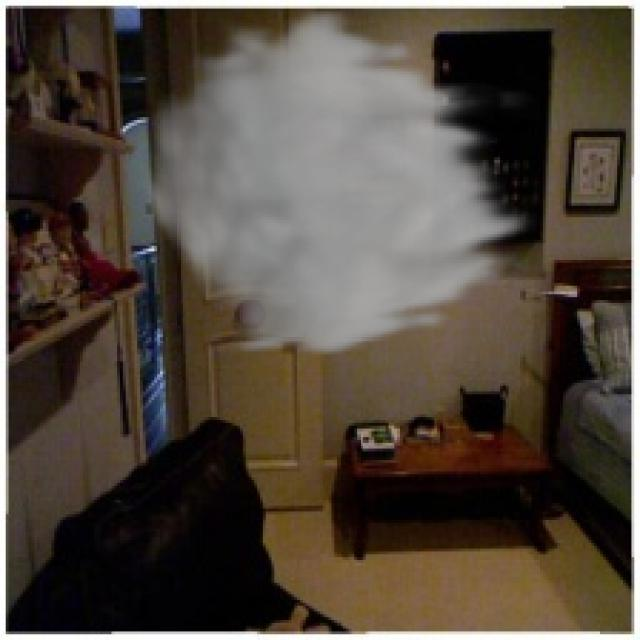smoke: (137, 3, 546, 360)
